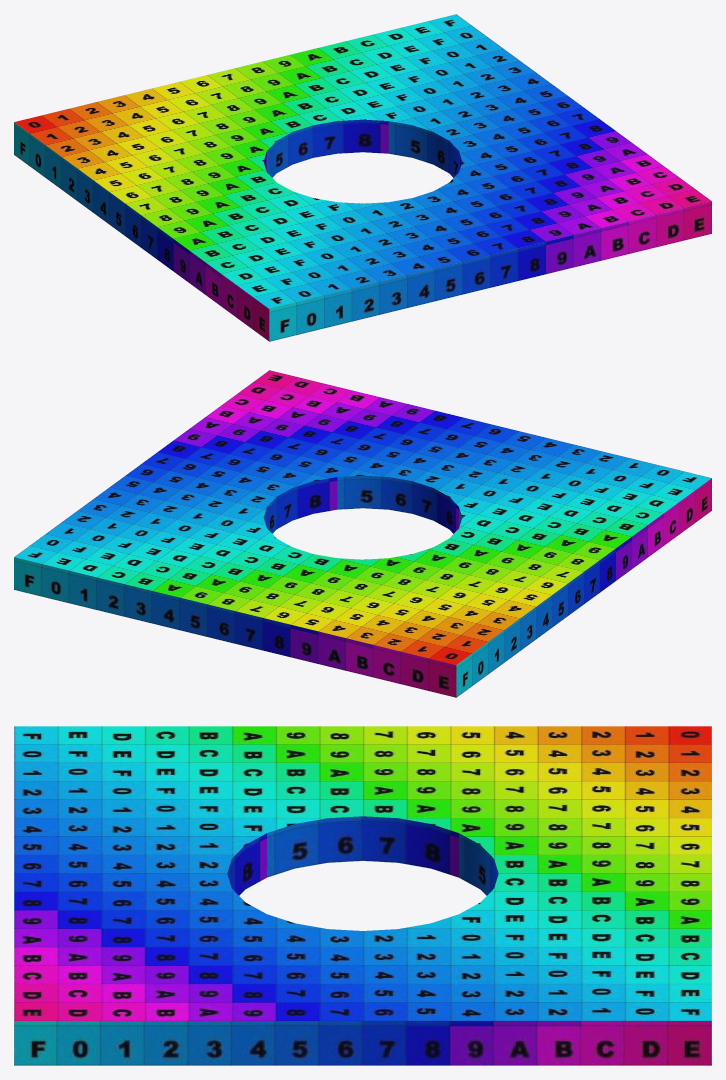
Rendered from bbuilder_box with small hole circle.dae.
3 views of the same model, one above another, from view 1: azimuth 30°, elevation 25°; view 2: azimuth 150°, elevation 25°; view 3: azimuth 270°, elevation 25° (orthographic). The views are drawn at different scales.
Visible parts, largest first — view 1: SketchUp (×2); view 2: SketchUp (×2); view 3: SketchUp (×2).
Part boxes in pixels (x1,y1,x2,y2): SketchUp (×2): (14,14,711,341); SketchUp (×2): (14,370,711,697); SketchUp (×2): (14,726,711,1065).
Size of the model in its own units: 134 by 134 by 9.44.
